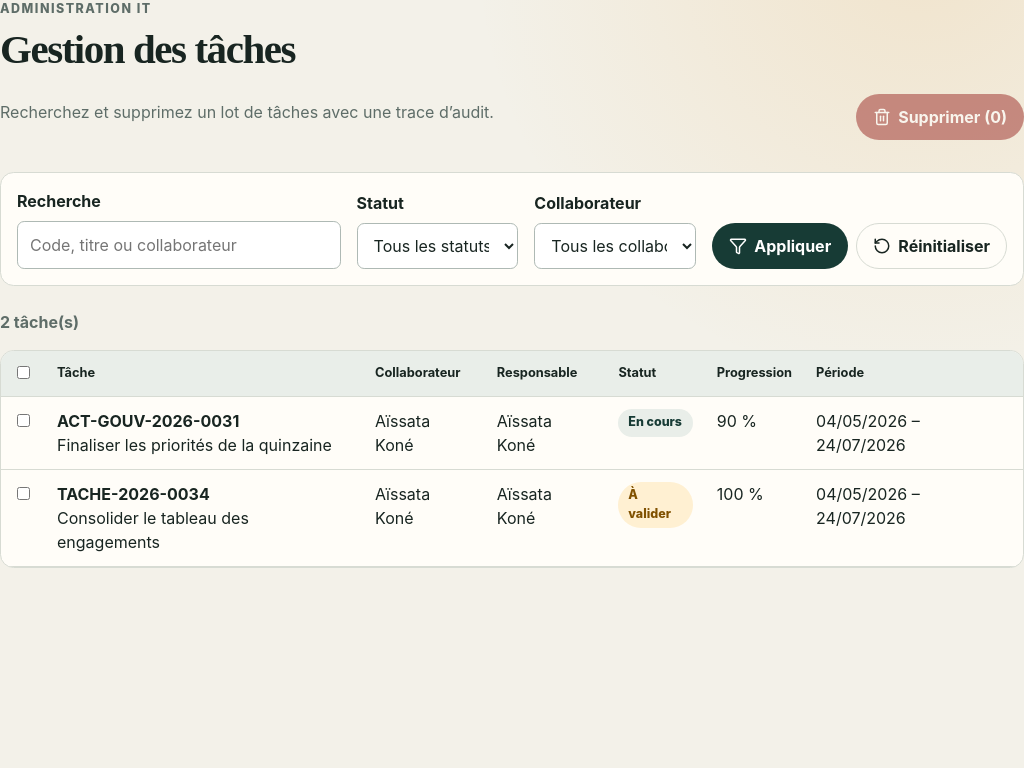
Test case: selectionne et supprime plusieurs taches avec confirmation
This screenshot has width=1024, height=768.
Expected: the text "Finaliser les priorités de la quinzaine" is shown, [57,433,351,457]
Click the checkbox named "Sélectionner toutes les tâches de cette page" at (24, 372), box [17,366,30,379]
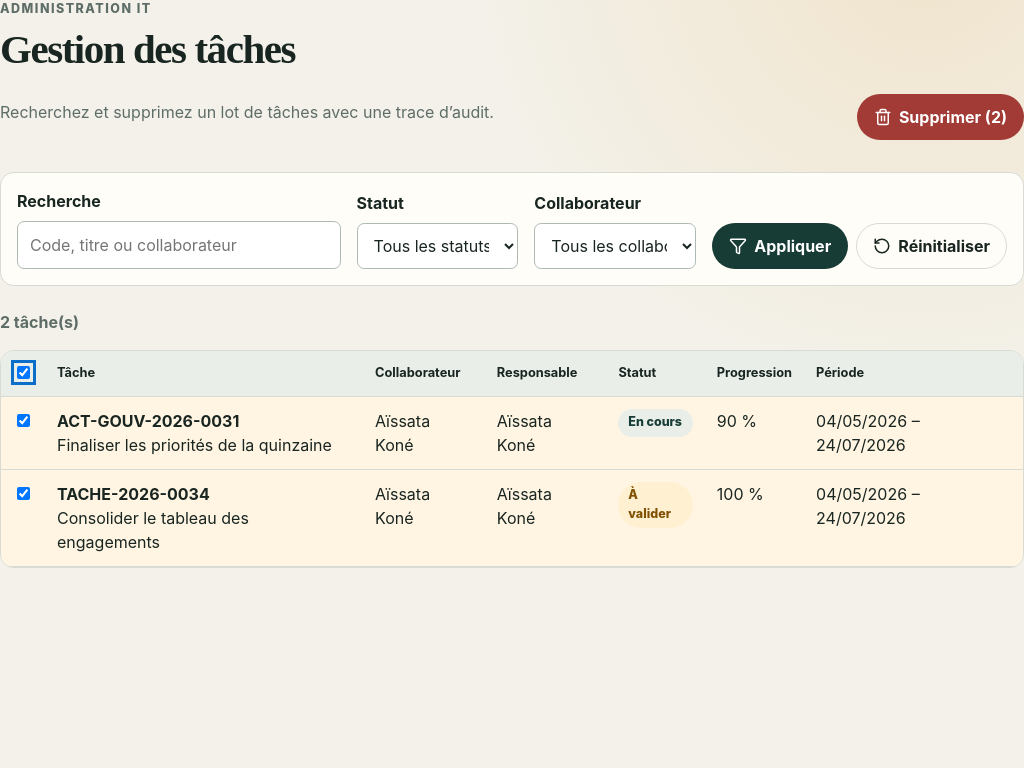
Click the button "Supprimer (2)" at (940, 117), box [857,94,1023,140]
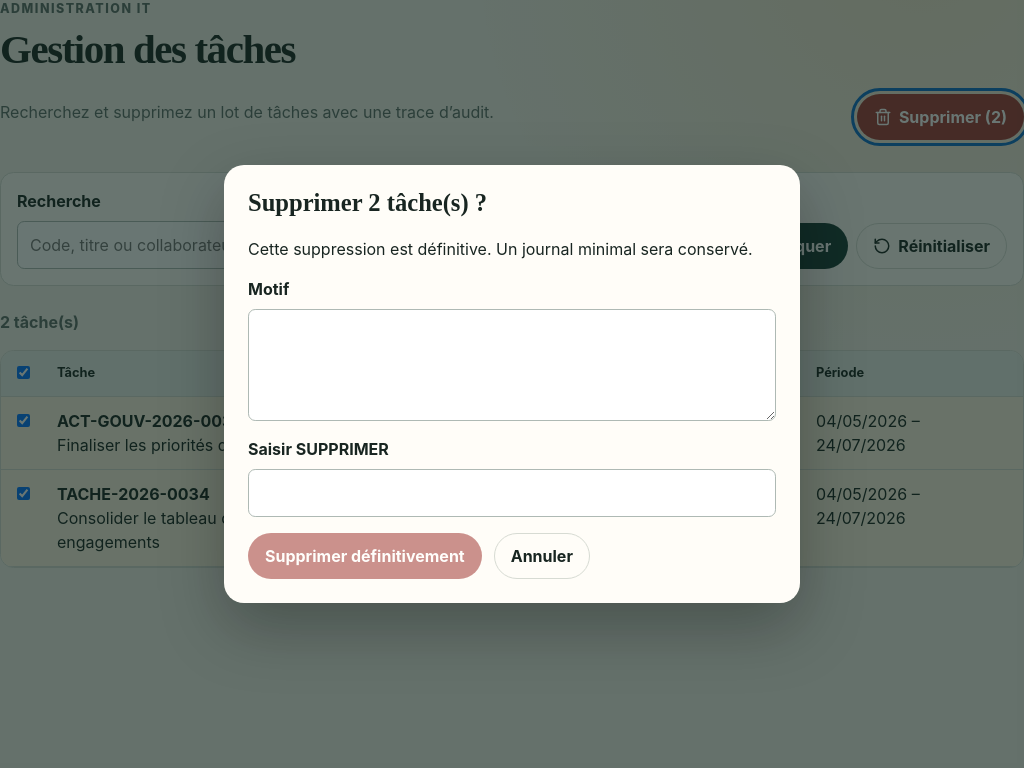
Expected: the dialog is shown, [224,165,800,603]
Type "Nettoyage du pilote" into the text box labelled "Motif" at (512, 365), box [248,309,776,421]
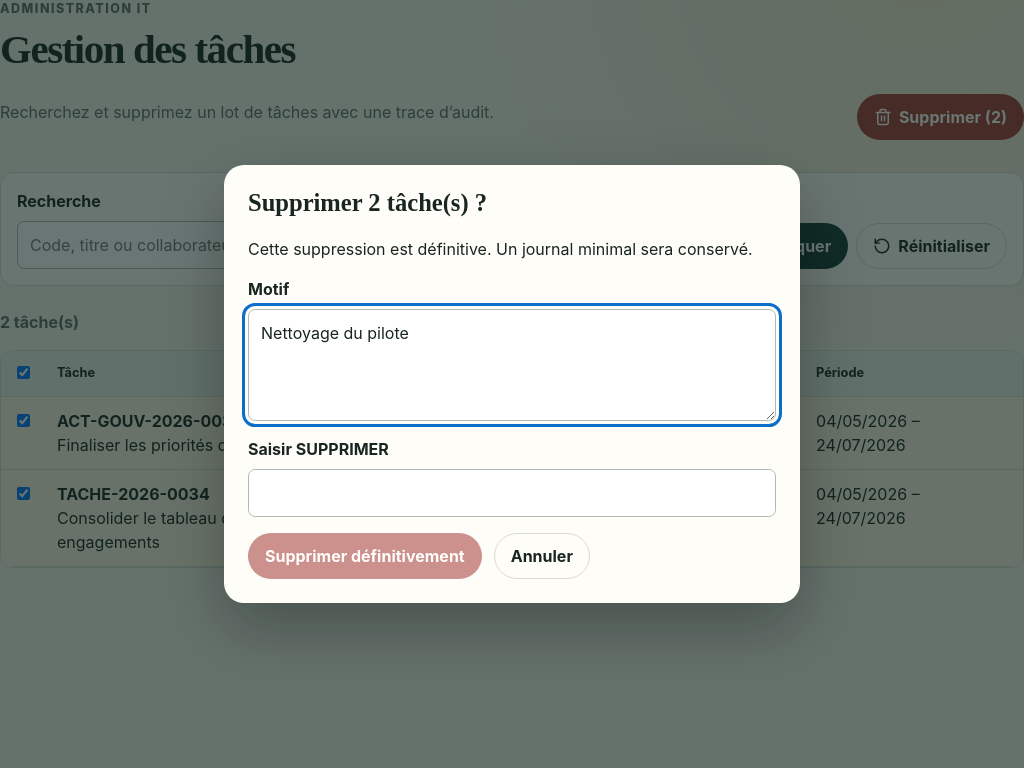
Type "SUPPRIMER" into the field labelled "Saisir SUPPRIMER" at (512, 493), box [248,469,776,517]
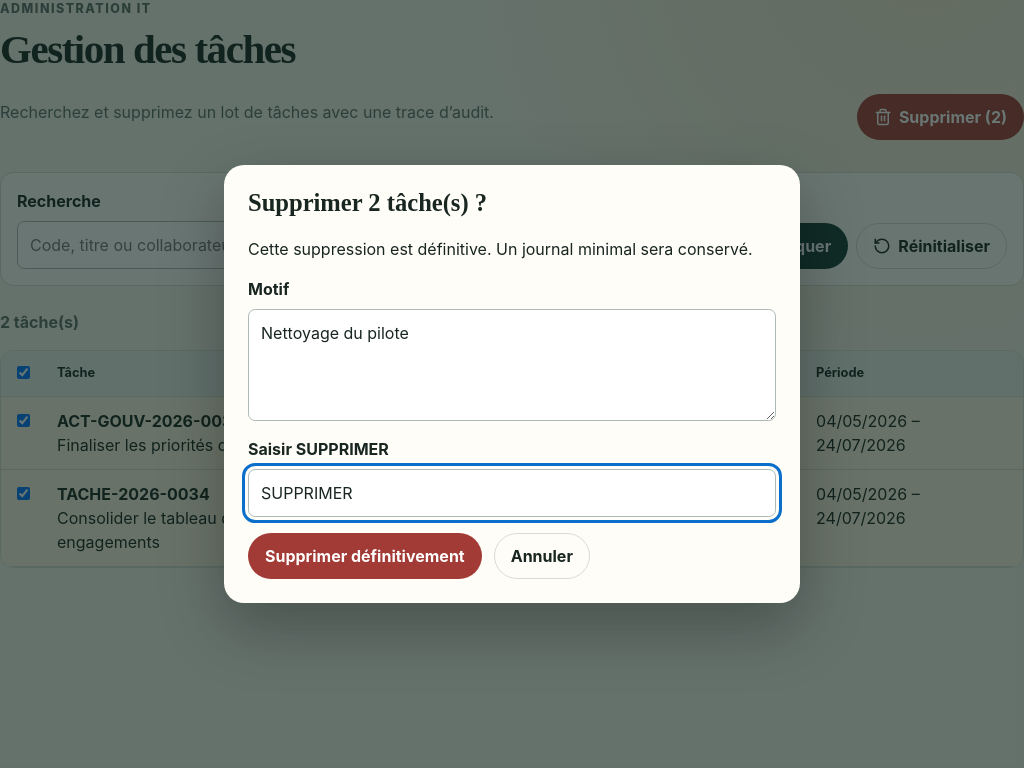
Click the button "Supprimer définitivement" at (365, 556), box [248,533,482,579]
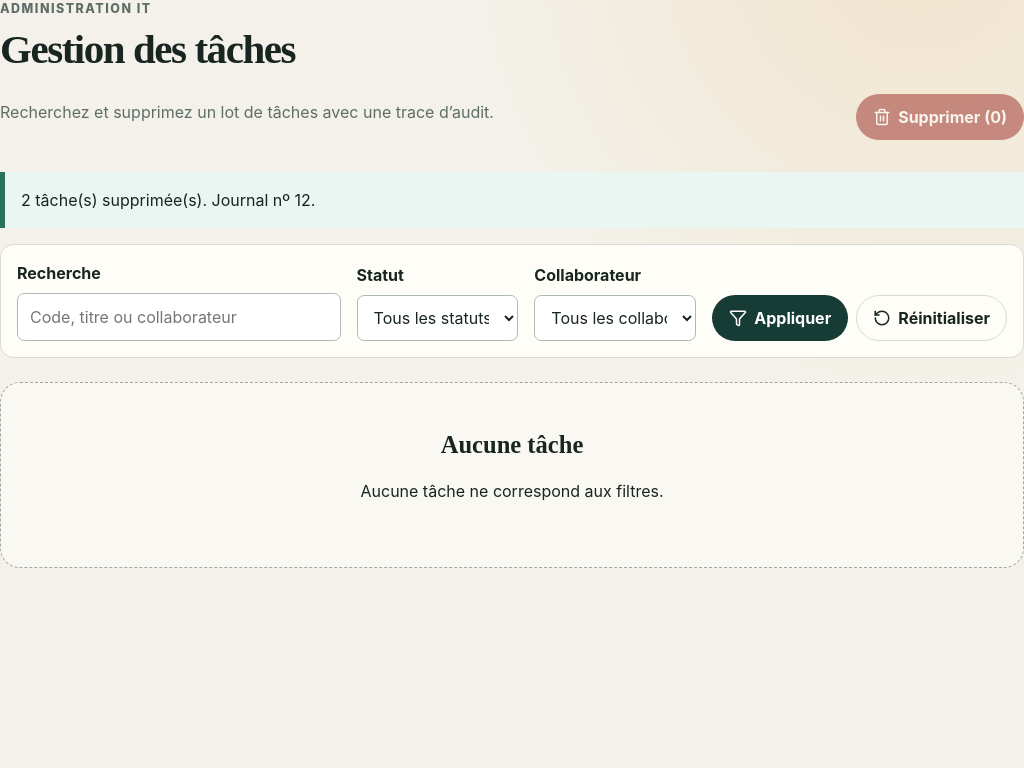
Expected: the text "2 tâche(s) supprimée(s). Journal nº 12." is shown, [0,172,1023,228]
Expected: the heading "Aucune tâche" is shown, [441,431,583,458]
